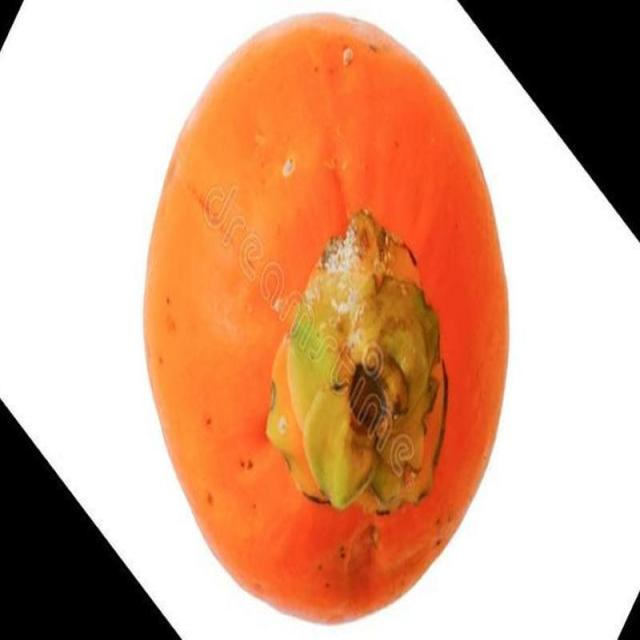good: (137, 13, 511, 628)
